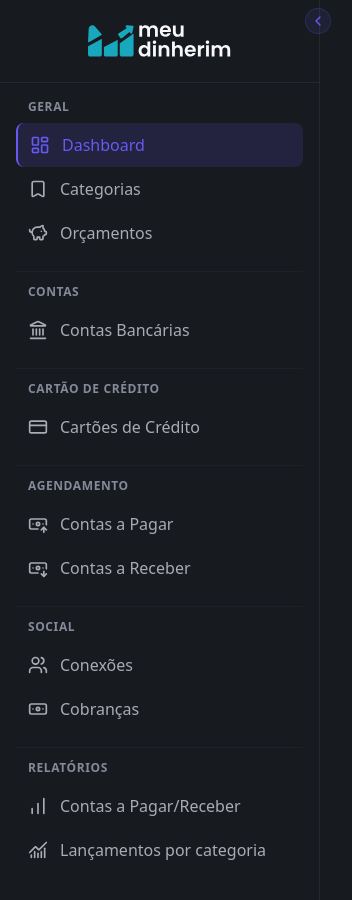
Componente Sidebar › deve colapsar e expandir a sidebar ao clicar no botão
The width and height of the screenshot is (352, 900).
Click the button named "Recolher" at (318, 21), box [305,8,331,34]
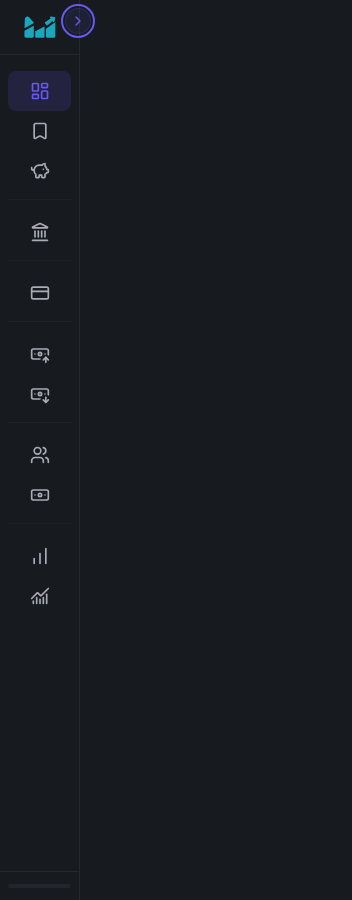
Result: the button named "Expandir" is shown
Click the button named "Expandir" at (78, 21), box [65,8,91,34]
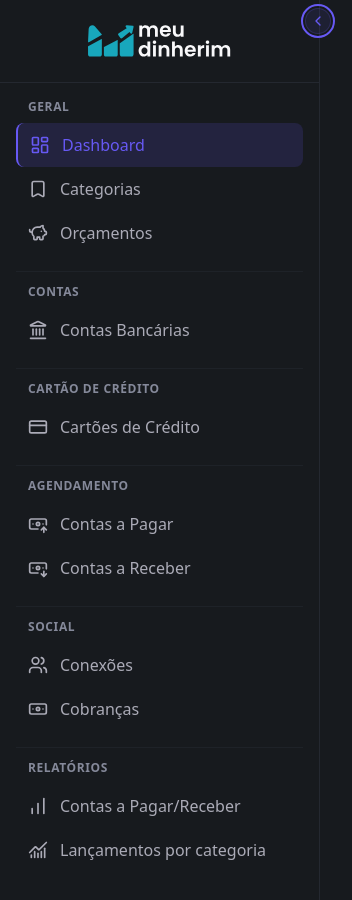
Result: the button named "Recolher" is shown at [305,8,331,34]
